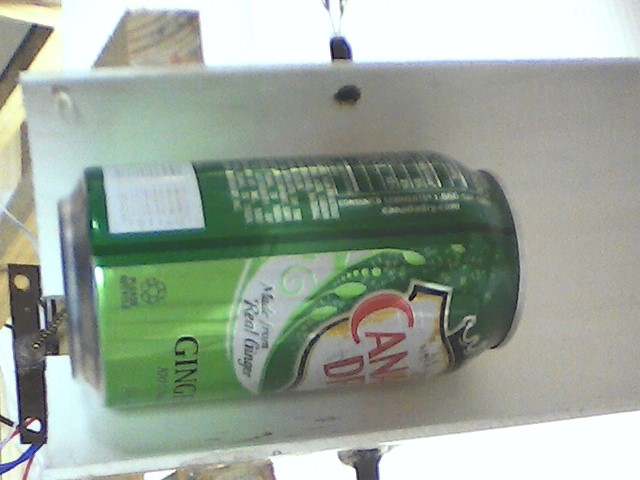lata: (54, 147, 528, 415)
